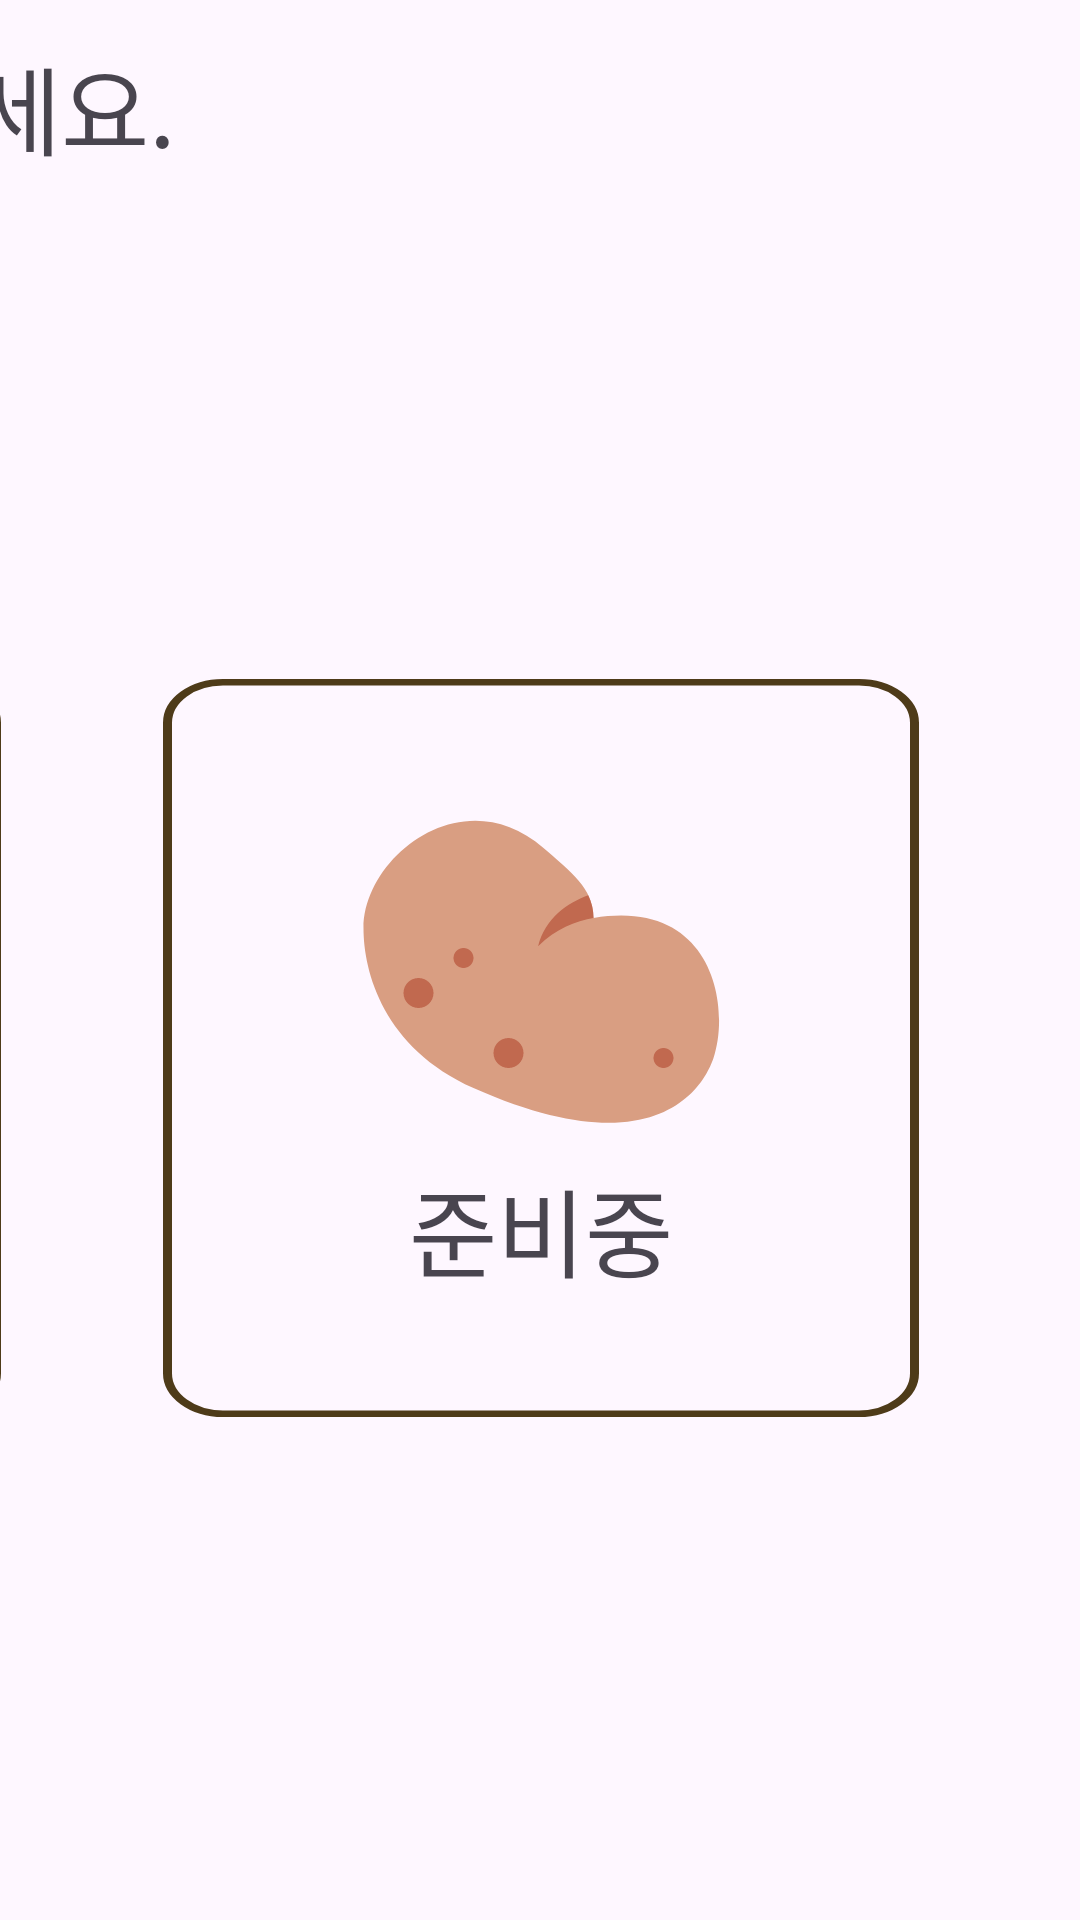

Where to tap for icons on this 1080px x 1920px app screen, as (x=x, y=y):
eg potato: (x=541, y=971)
